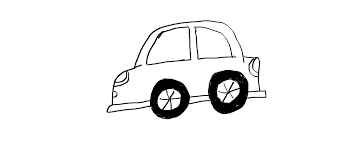car: (102, 15, 281, 122)
